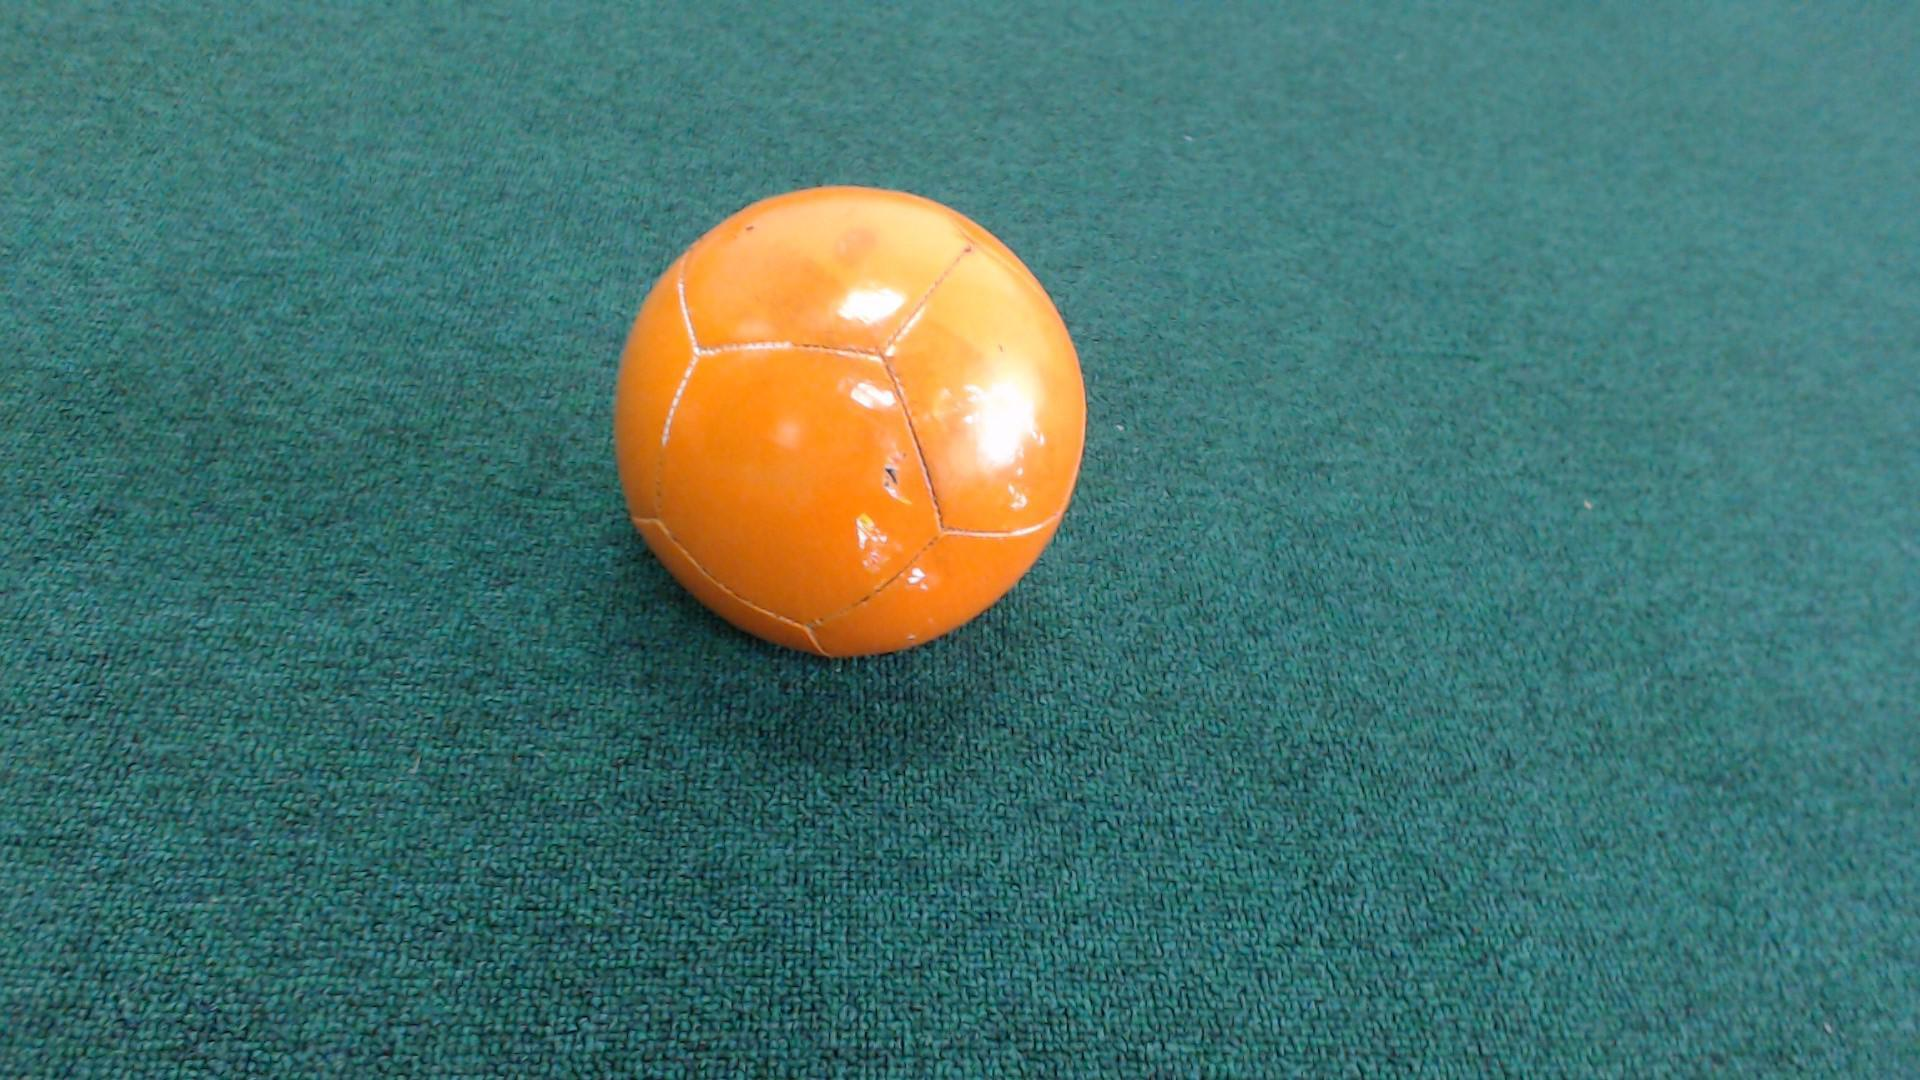bola: (584, 142, 1138, 692)
